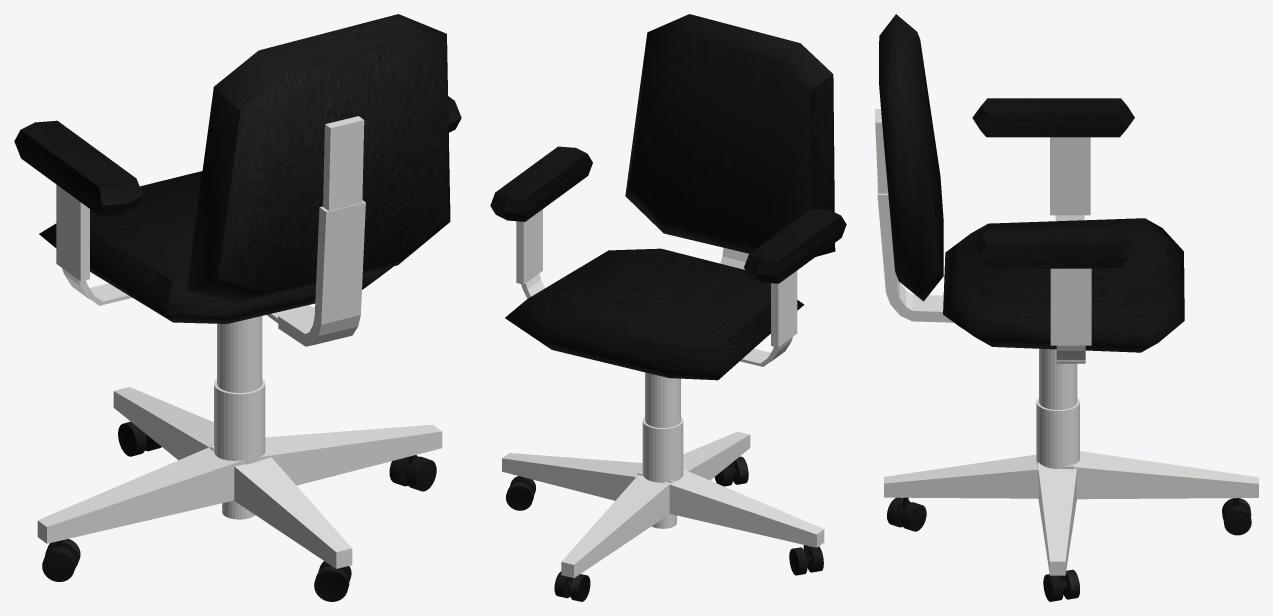
The model's file is chair.glb.
3 views of the same model, side by side, from view 1: azimuth 30°, elevation 25°; view 2: azimuth 150°, elevation 25°; view 3: azimuth 270°, elevation 25° (orthographic). The views are drawn at different scales.
Visible parts, largest first — view 1: Back, Feet, Base, Cube, Axe, Hand.L, Support001, Wheel.001, Wheel.003, Wheel.004, Wheel.002; view 2: Back, Base, Feet, Axe, Hand.L, Hand.R, Support001, Support.002, Wheel.003, Wheel.002, Wheel.001, Wheel.004; view 3: Base, Feet, Back, Hand.R, Hand.L, Axe, Support.002, Support001, Cube, Wheel.004, Wheel.001, Wheel.002.
Part boxes in pixels (x1,y1,x2,y2): Back: [186, 14, 450, 303]; Feet: [37, 387, 442, 568]; Base: [39, 171, 393, 323]; Cube: [267, 116, 365, 346]; Axe: [214, 316, 265, 519]; Hand.L: [14, 120, 143, 216]; Support001: [56, 184, 132, 305]; Wheel.001: [389, 455, 436, 491]; Wheel.003: [42, 539, 80, 581]; Wheel.004: [314, 561, 351, 601]; Wheel.002: [118, 421, 161, 456]; Back: [625, 14, 835, 256]; Base: [505, 248, 804, 380]; Feet: [502, 431, 824, 577]; Axe: [642, 372, 683, 528]; Hand.L: [744, 208, 846, 283]; Hand.R: [490, 146, 592, 221]; Support001: [740, 270, 797, 366]; Support.002: [516, 209, 544, 298]; Wheel.003: [789, 545, 823, 575]; Wheel.002: [554, 571, 590, 601]; Wheel.001: [506, 476, 535, 510]; Wheel.004: [714, 456, 748, 486]; Base: [943, 218, 1184, 352]; Feet: [884, 451, 1258, 575]; Back: [879, 14, 943, 301]; Hand.R: [972, 229, 1134, 268]; Hand.L: [972, 98, 1134, 137]; Axe: [1036, 348, 1079, 468]; Support.002: [1050, 268, 1091, 363]; Support001: [1050, 137, 1090, 221]; Cube: [875, 109, 953, 322]; Wheel.004: [887, 497, 926, 531]; Wheel.001: [1043, 569, 1079, 601]; Wheel.002: [1222, 498, 1251, 535].
Bounding box in the file's own units: 0.7737 × 1.06 × 0.7662.
2 materials, 1 textured.
